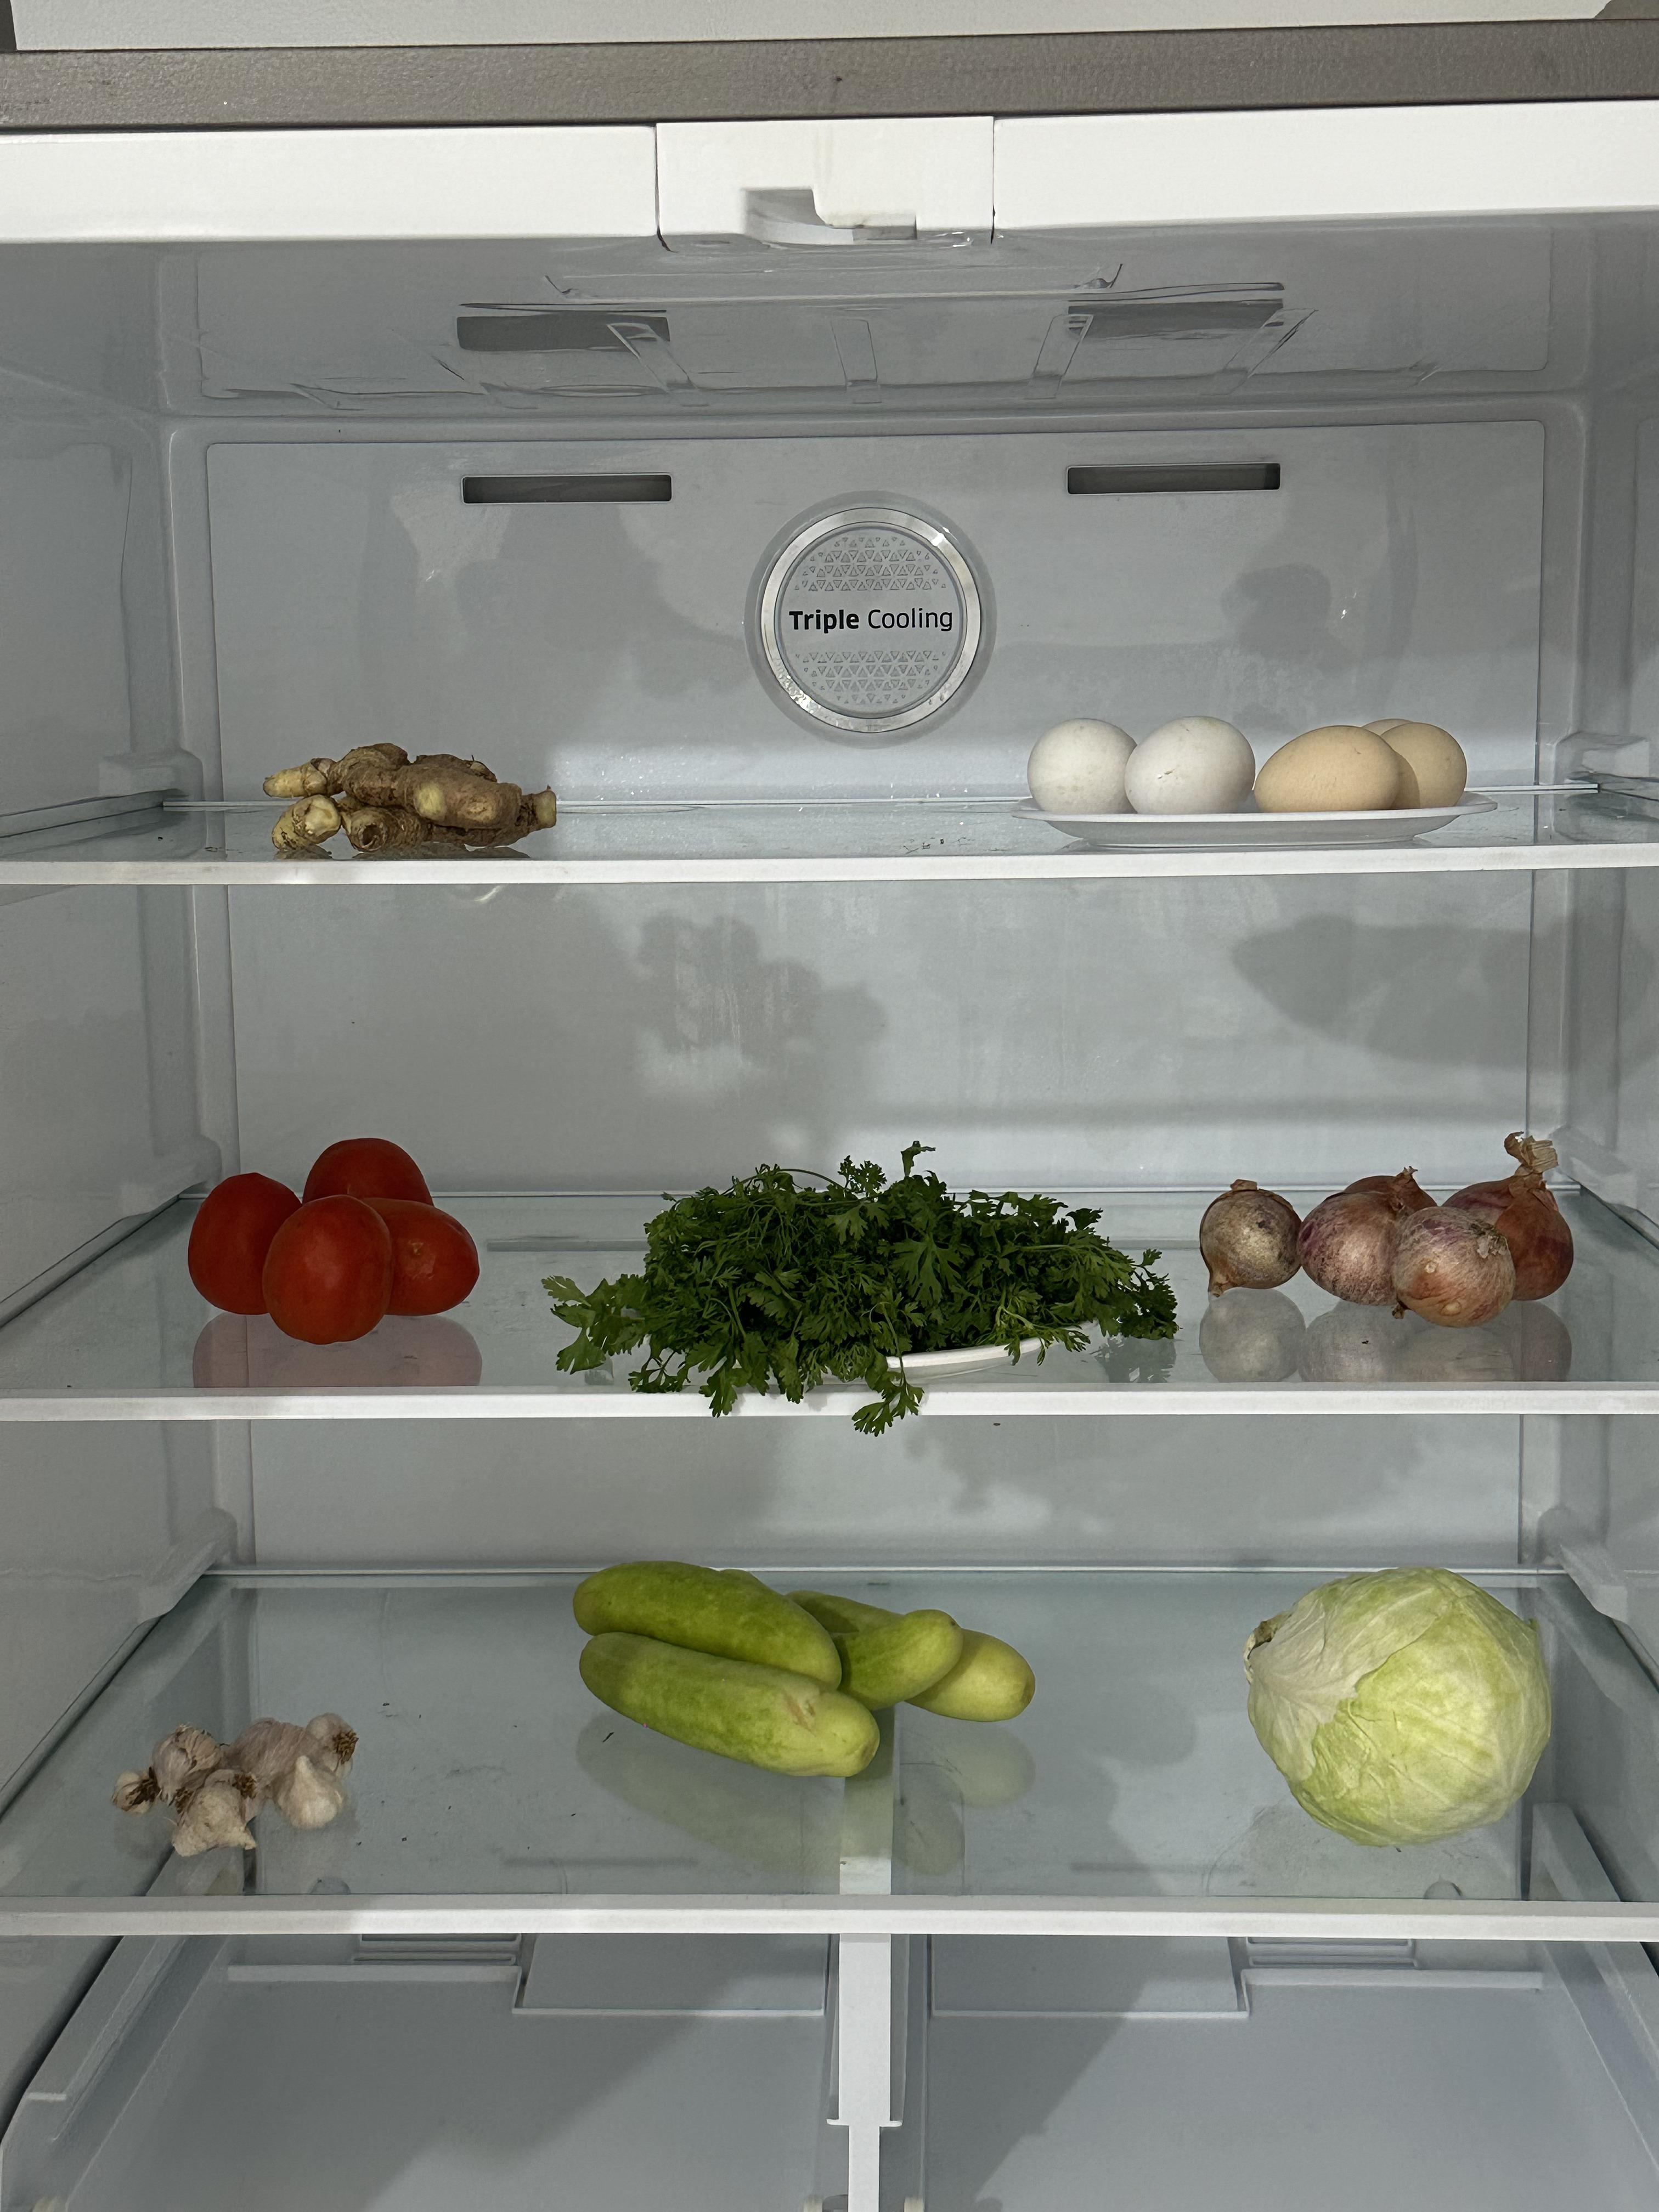cabbage: (1239, 1555, 1560, 1844)
coriander: (565, 1153, 1166, 1372)
cucumber: (572, 1548, 1040, 1784)
egg: (1030, 711, 1464, 817)
garlic: (110, 1698, 366, 1860)
ginger: (253, 733, 565, 860)
onion: (1199, 1162, 1584, 1317)
tomato: (186, 1132, 479, 1341)
